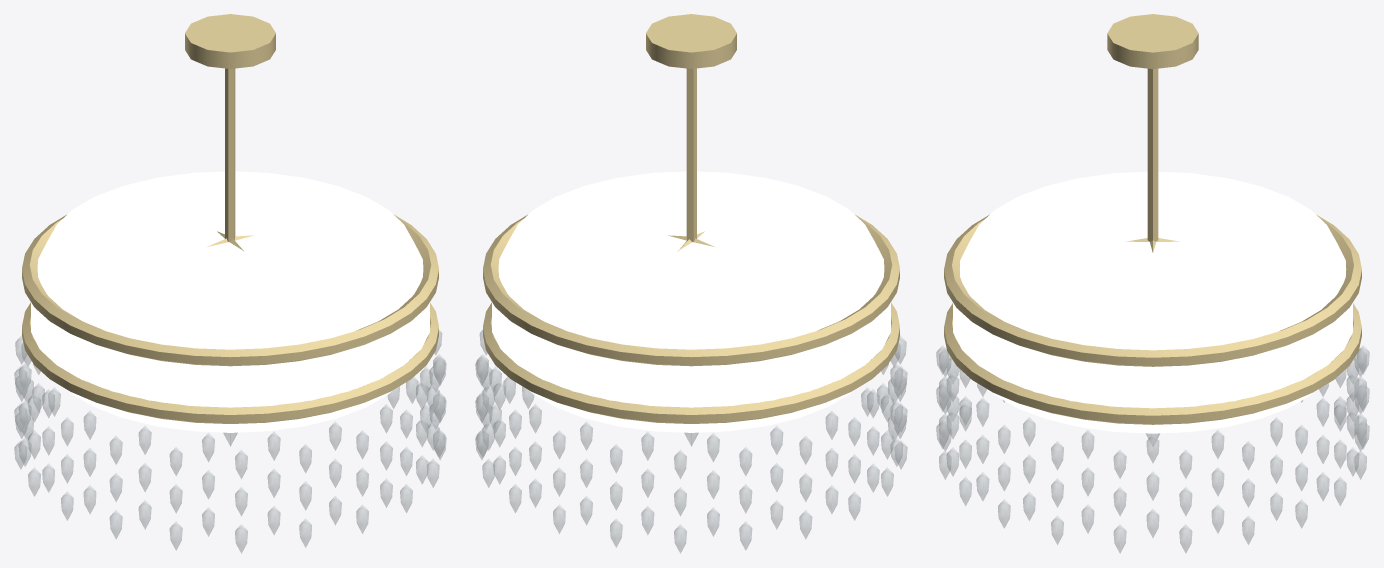
The model's file is chandelier_drum_crystal.glb.
The picture shows the model from 3 angles, left to right: view 1: azimuth 30°, elevation 25°; view 2: azimuth 150°, elevation 25°; view 3: azimuth 270°, elevation 25°; orthographic projection.
Parts seen in each view (by area): view 1: chandelier_drum_crystal; view 2: chandelier_drum_crystal; view 3: chandelier_drum_crystal.
Part boxes in pixels (box(x1,y1,x2,y2)): chandelier_drum_crystal: box(14, 14, 446, 553); chandelier_drum_crystal: box(475, 14, 907, 553); chandelier_drum_crystal: box(936, 14, 1369, 553).
Size of the model in its own units: 0.9524 by 1.04 by 0.9481.
